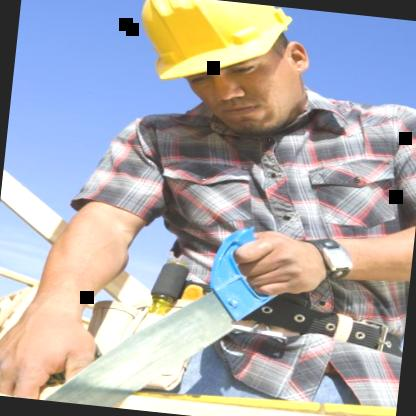helmet: (112, 0, 331, 144)
